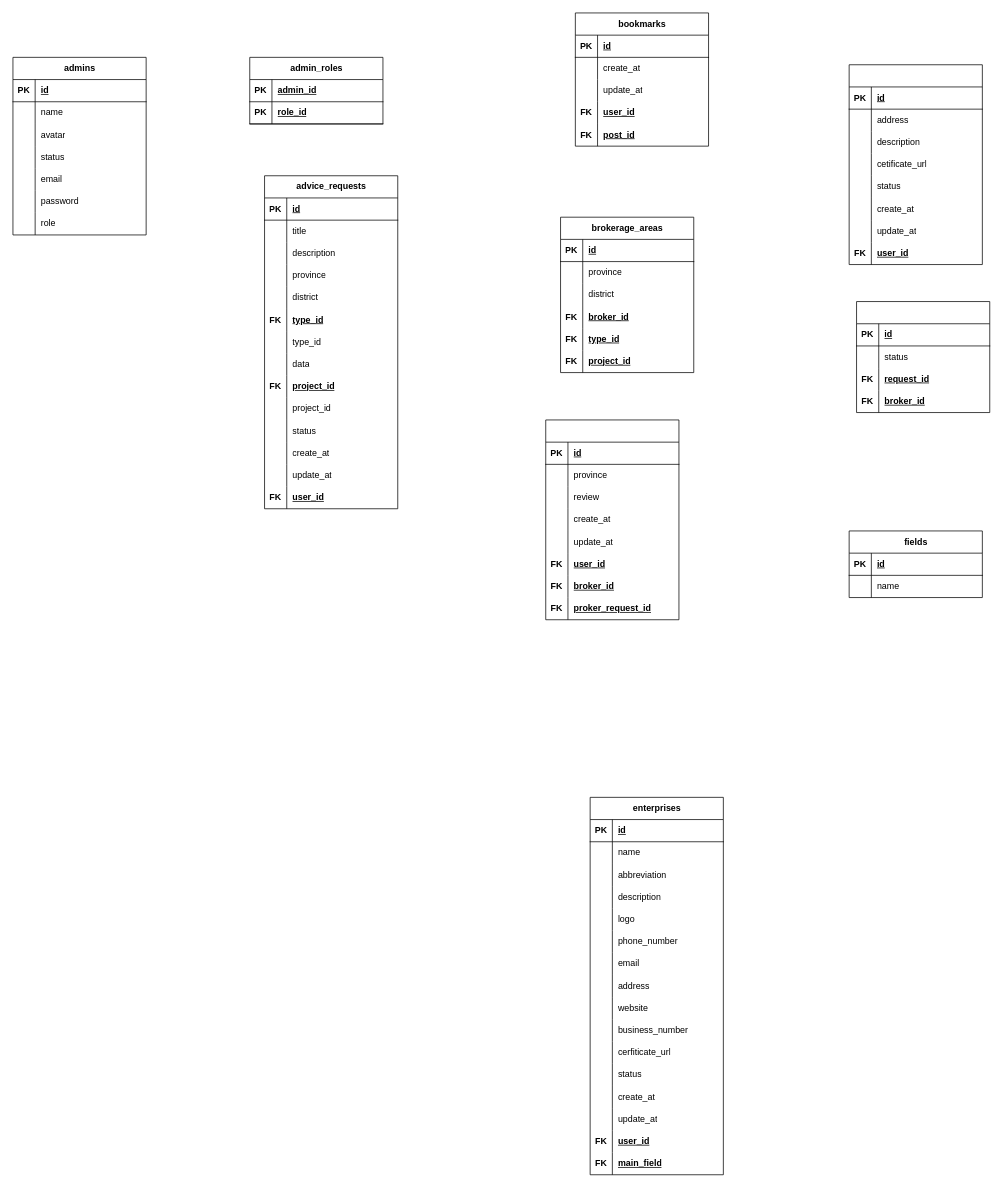
Some shapes in this 1003 by 1188 pixel diagram are drawn without their labels. Here are the shapes that lost their labels. From the top down, the box of each, then its label:
(848, 64, 982, 265): brokers
(856, 301, 990, 413): broker_advice_requests
(545, 419, 679, 620): broker_reviews
